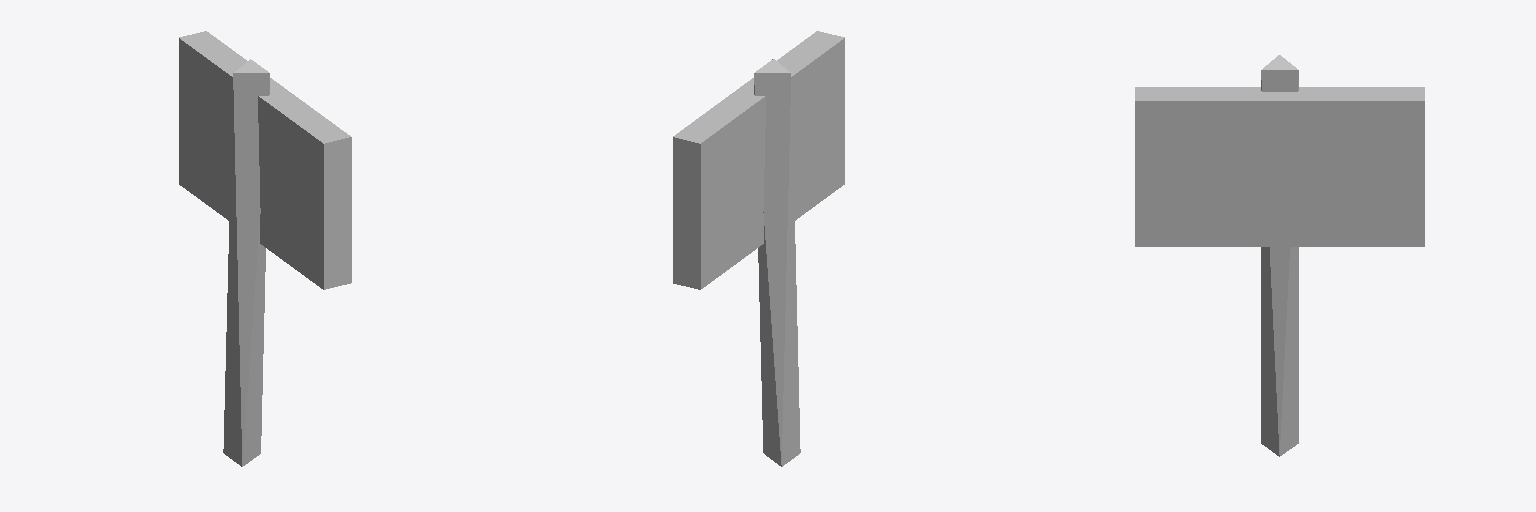
File: Sign.obj
The picture shows the model from 3 angles: view 1: azimuth 30°, elevation 25°; view 2: azimuth 150°, elevation 25°; view 3: azimuth 270°, elevation 25°; orthographic projection.
Visible parts, largest first — view 1: Shape_IndexedFaceSet.053, Shape_IndexedFaceSet.000; view 2: Shape_IndexedFaceSet.053, Shape_IndexedFaceSet.000; view 3: Shape_IndexedFaceSet.001, Shape_IndexedFaceSet.000, Shape_IndexedFaceSet.053.
Boxes of the visible parts, box(x1,y1,x2,y2) form: Shape_IndexedFaceSet.053: box(179, 31, 351, 289); Shape_IndexedFaceSet.000: box(223, 59, 269, 466); Shape_IndexedFaceSet.053: box(673, 31, 844, 289); Shape_IndexedFaceSet.000: box(754, 59, 800, 466); Shape_IndexedFaceSet.001: box(1135, 101, 1424, 246); Shape_IndexedFaceSet.000: box(1261, 55, 1298, 456); Shape_IndexedFaceSet.053: box(1135, 87, 1424, 100).
Size of the model in its own units: 0.0165 by 0.1358 by 0.0898.